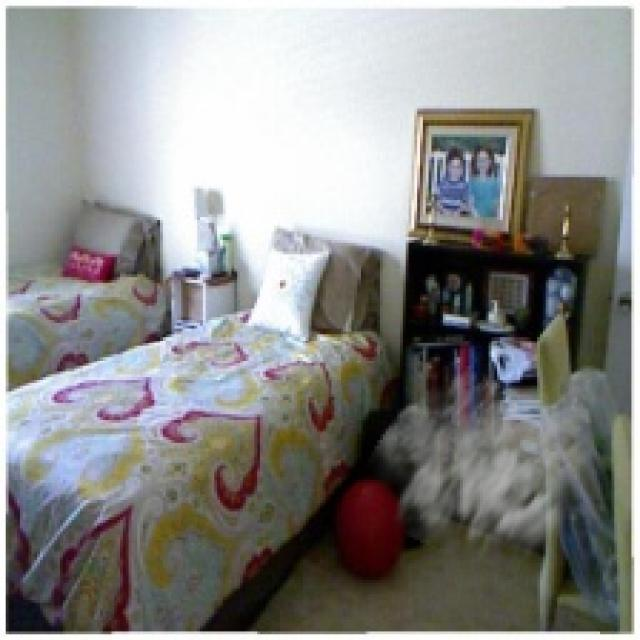smoke: (363, 363, 600, 588)
